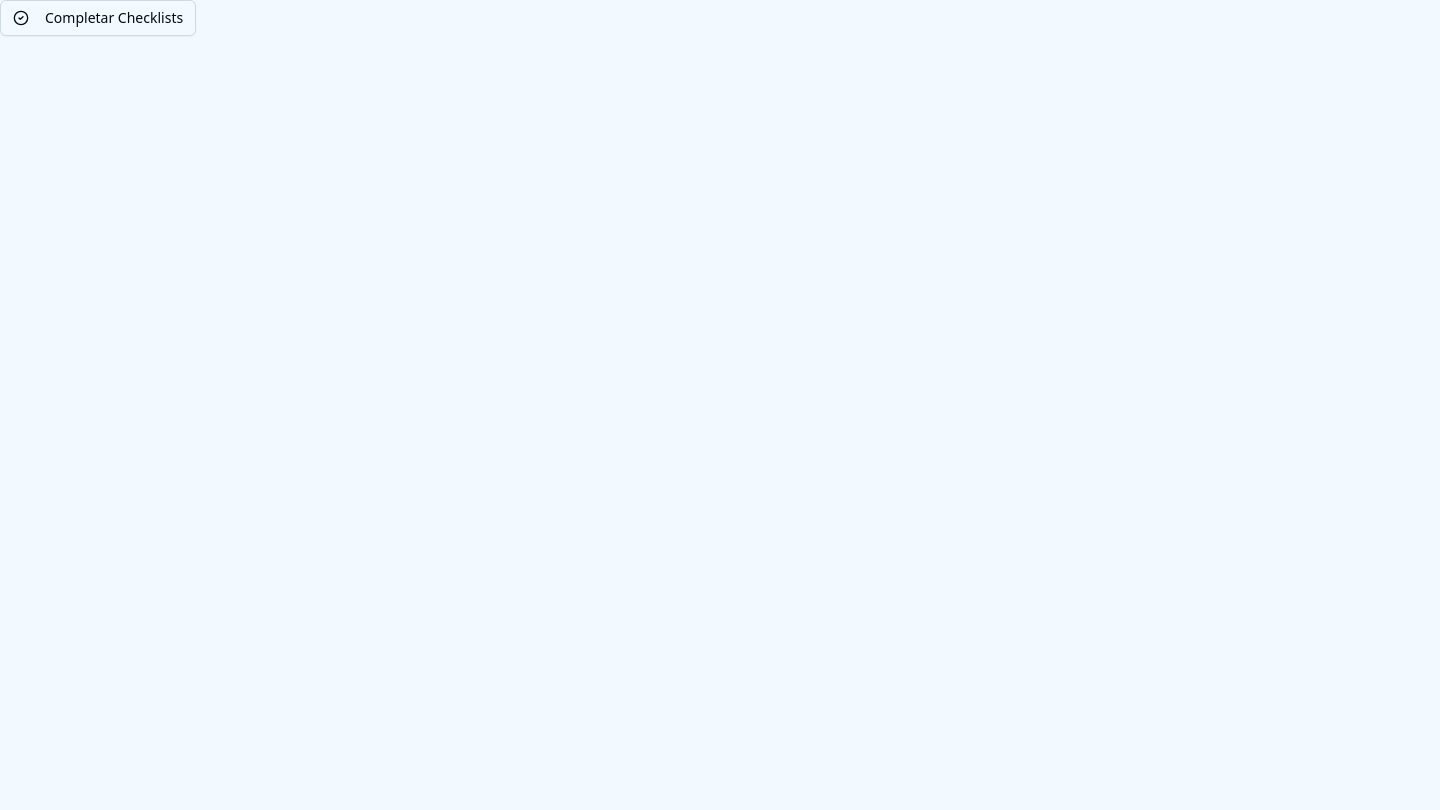
Test case: ChecklistCompletionModal › should show loading state initially
The width and height of the screenshot is (1440, 810).
Click the button "Completar Checklists" at (98, 18), box [0,0,196,36]
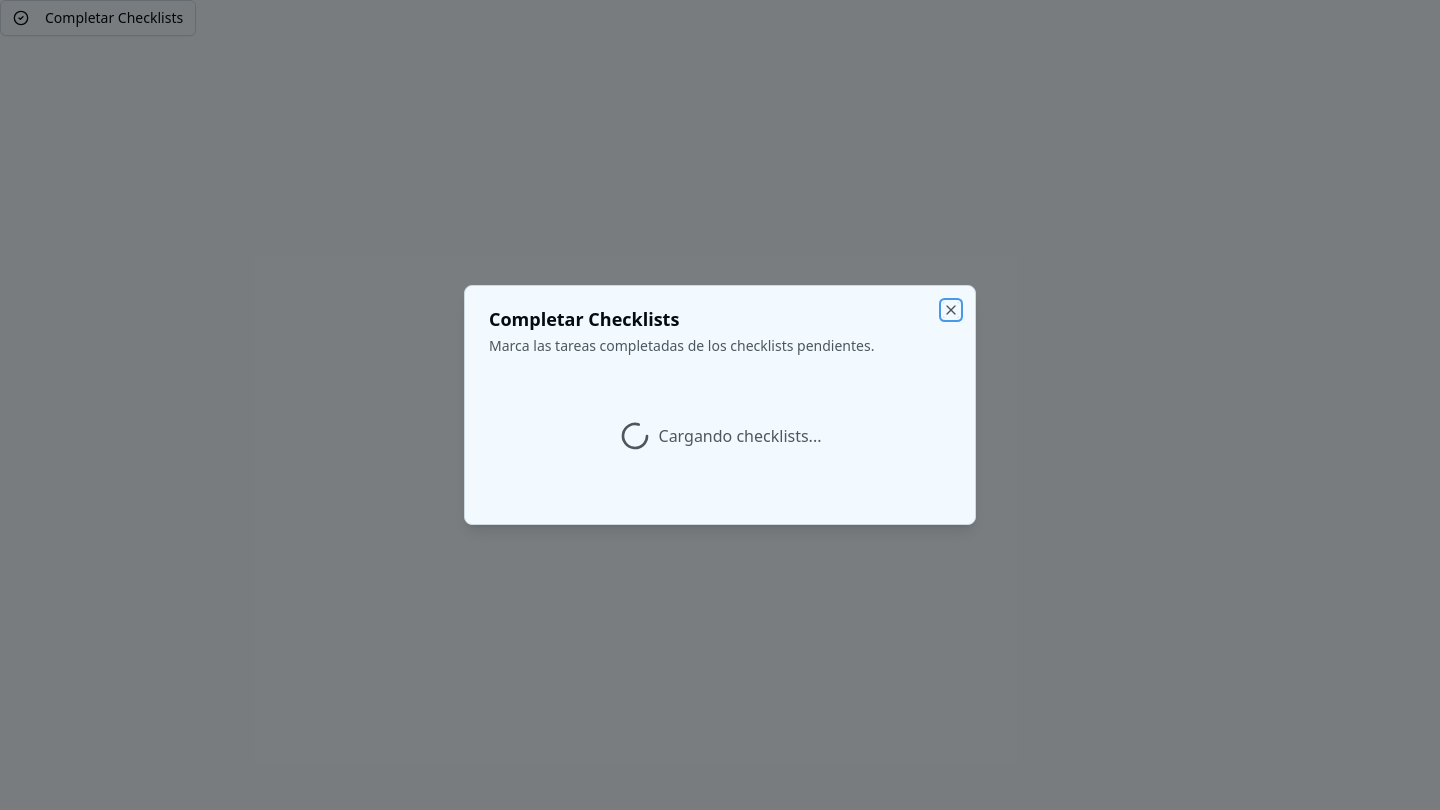
expect the text "Cargando checklists..." is shown: met, box [658,424,822,448]
